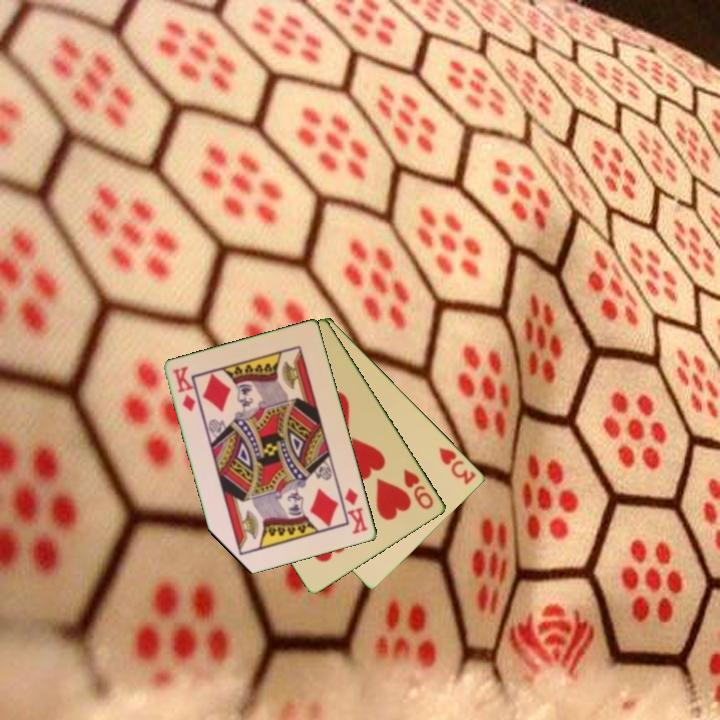3h: (436, 444, 479, 488)
9h: (400, 465, 437, 512)
Kd: (169, 363, 199, 415), (342, 485, 371, 537)
